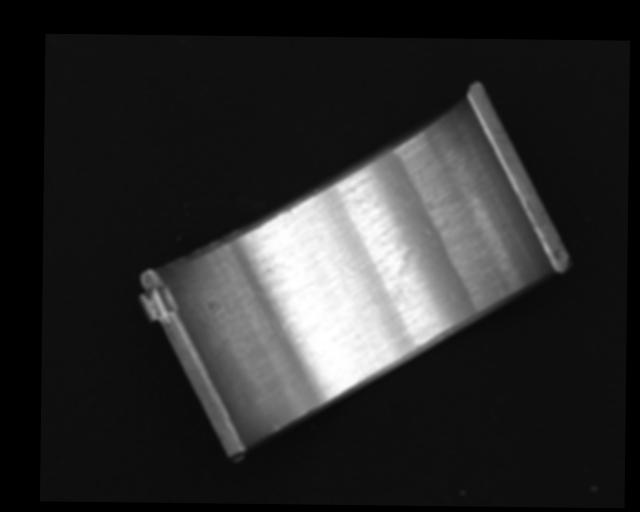nick: (268, 418, 278, 432)
